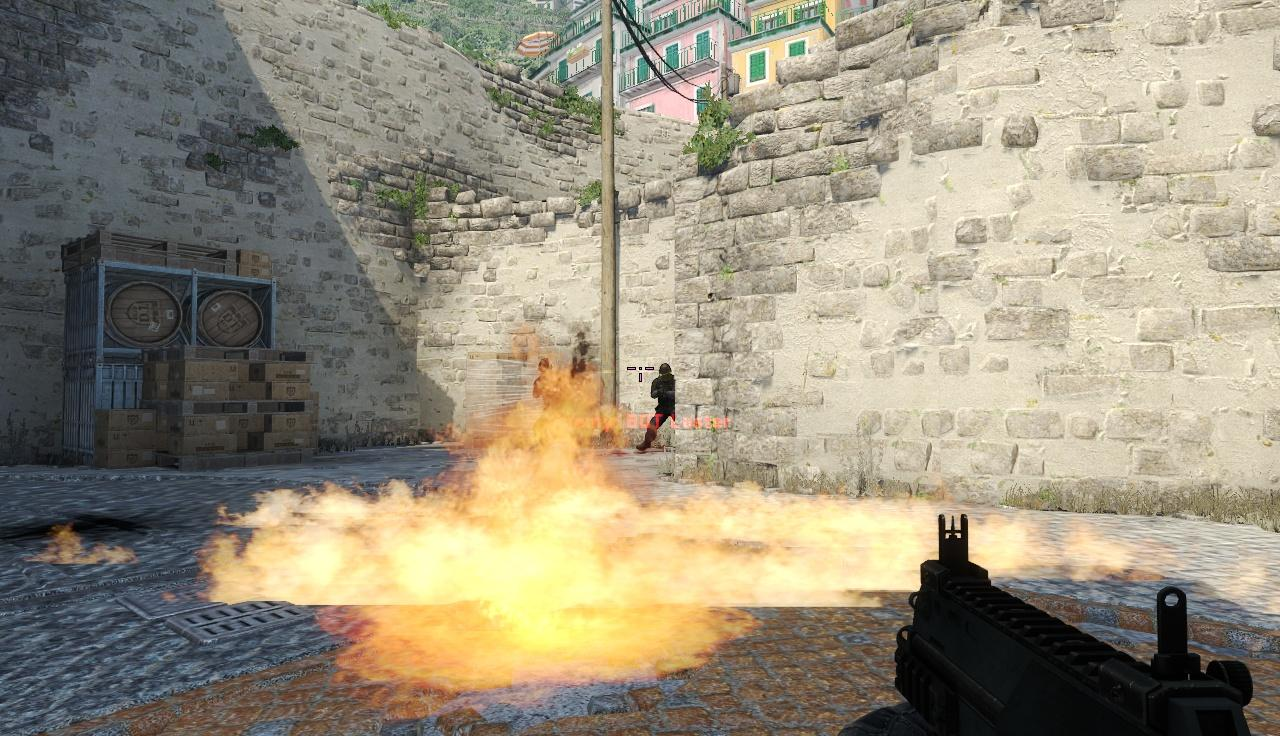ct: (649, 364, 676, 450)
cthead: (658, 364, 671, 380)
rifle: (900, 514, 1280, 736)
